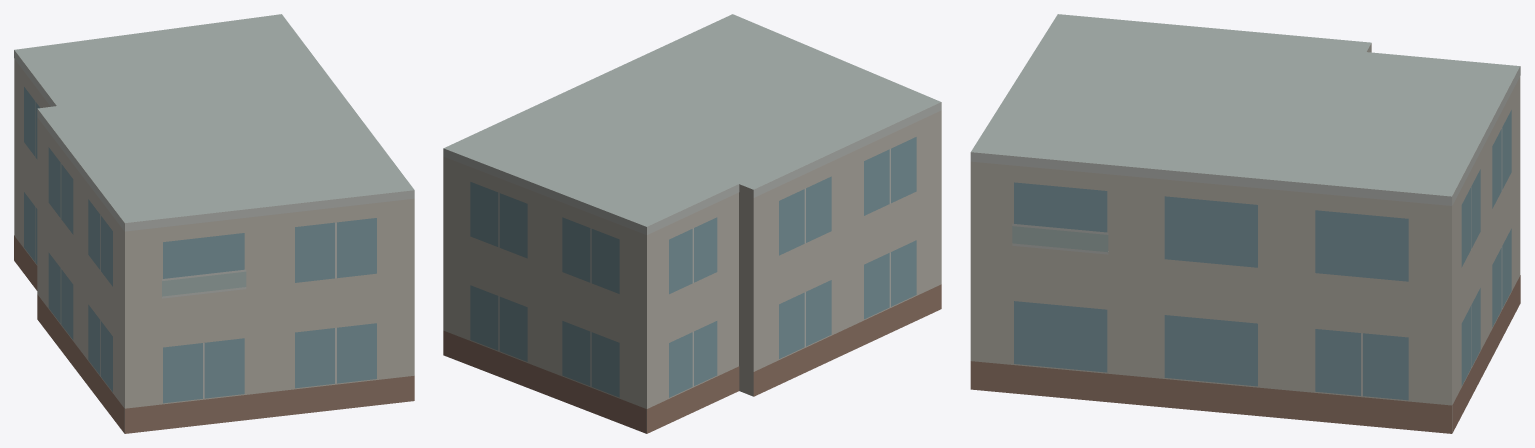
Rendered from survey-upis-33003158.glb.
3 renders of one model, left to right at view 1: azimuth 30°, elevation 25°; view 2: azimuth 150°, elevation 25°; view 3: azimuth 270°, elevation 25°, orthographic. The views are drawn at different scales.
Visible parts, largest first — view 1: survey-upis-33003158.tmp; view 2: survey-upis-33003158.tmp; view 3: survey-upis-33003158.tmp.
Boxes of the visible parts, x1,y1,x2,y2 form: survey-upis-33003158.tmp: (14, 14, 414, 433); survey-upis-33003158.tmp: (443, 14, 941, 433); survey-upis-33003158.tmp: (970, 14, 1520, 433).
Size of the model in its own units: 10.07 by 6.1 by 12.82.
